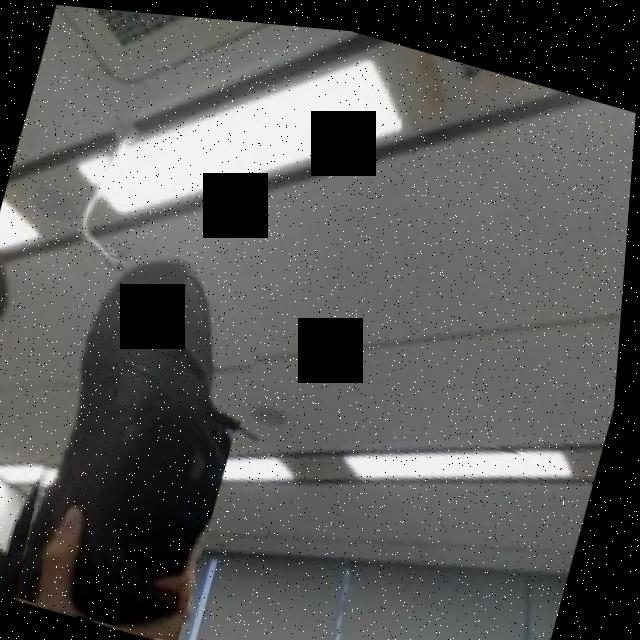shoe: (4, 227, 281, 640)
